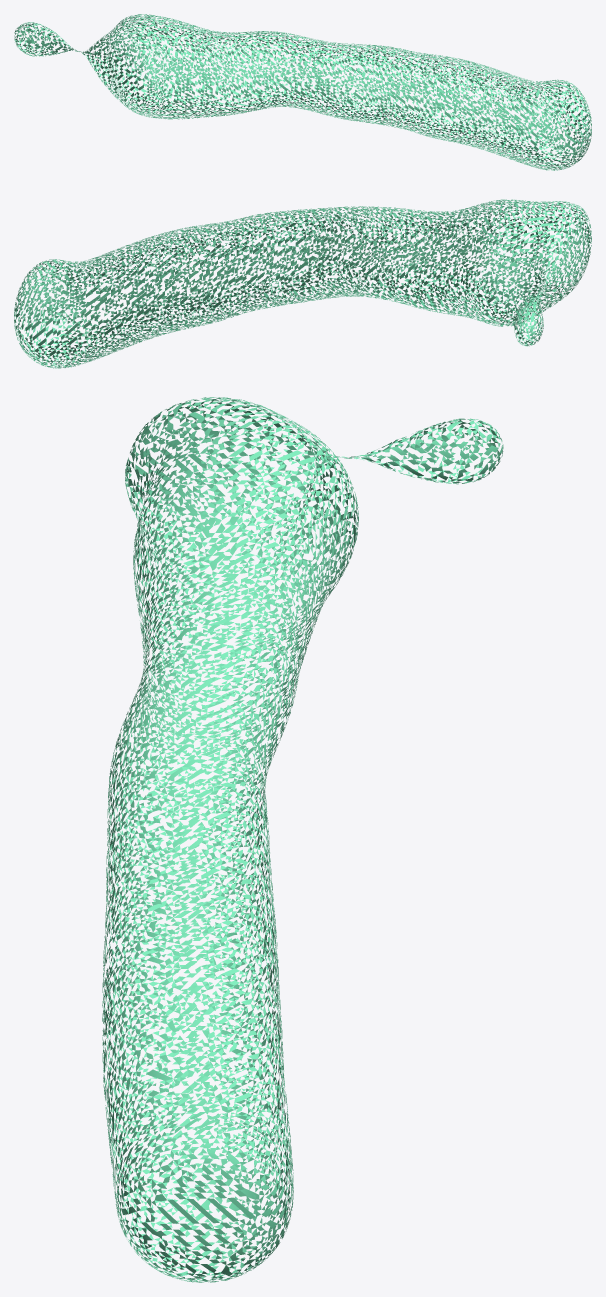
File: healthy.glb
The picture shows the model from 3 angles, top to bottom: view 1: azimuth 30°, elevation 25°; view 2: azimuth 150°, elevation 25°; view 3: azimuth 270°, elevation 25°; orthographic projection. The views are drawn at different scales.
Bounding box in the file's own units: 124 × 56.52 × 43.47.
